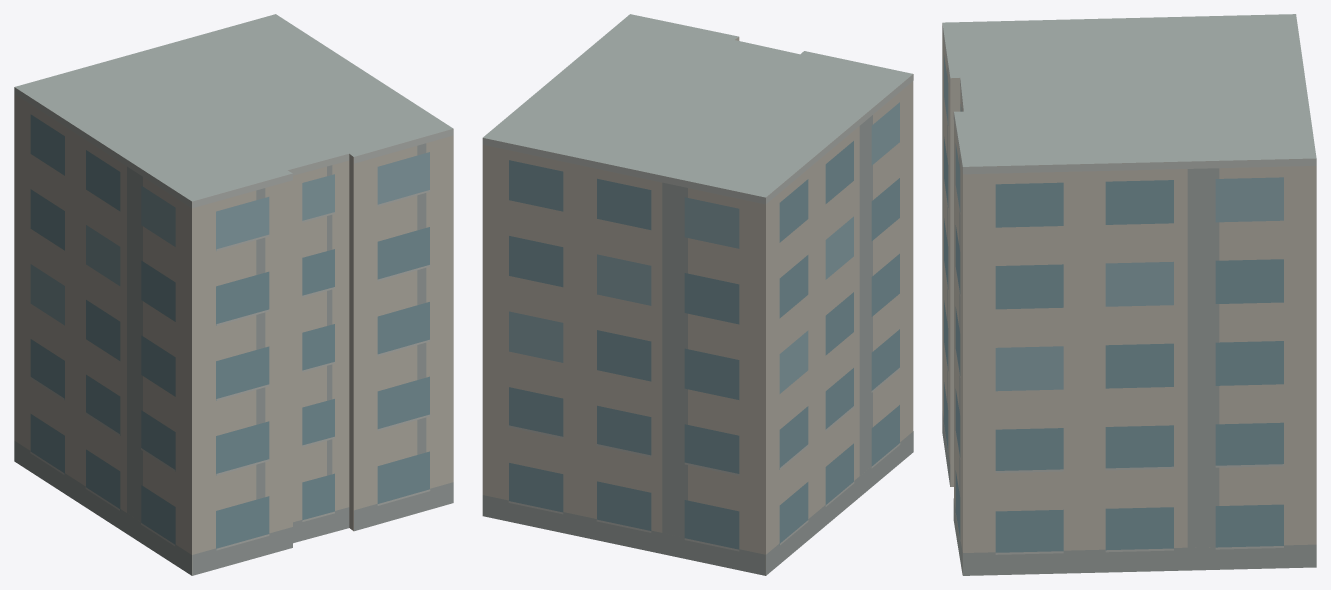
The model's file is survey-upis-32701696.glb.
3 views of the same model, side by side, from view 1: azimuth 30°, elevation 25°; view 2: azimuth 150°, elevation 25°; view 3: azimuth 270°, elevation 25° (orthographic). The views are drawn at different scales.
Parts seen in each view (by area): view 1: survey-upis-32701696.tmp; view 2: survey-upis-32701696.tmp; view 3: survey-upis-32701696.tmp.
Part boxes in pixels (box(x1,y1,x2,y2)): survey-upis-32701696.tmp: box(14, 14, 453, 575); survey-upis-32701696.tmp: box(482, 14, 913, 575); survey-upis-32701696.tmp: box(942, 14, 1316, 575).
Size of the model in its own units: 10.8 by 13.45 by 11.17.
